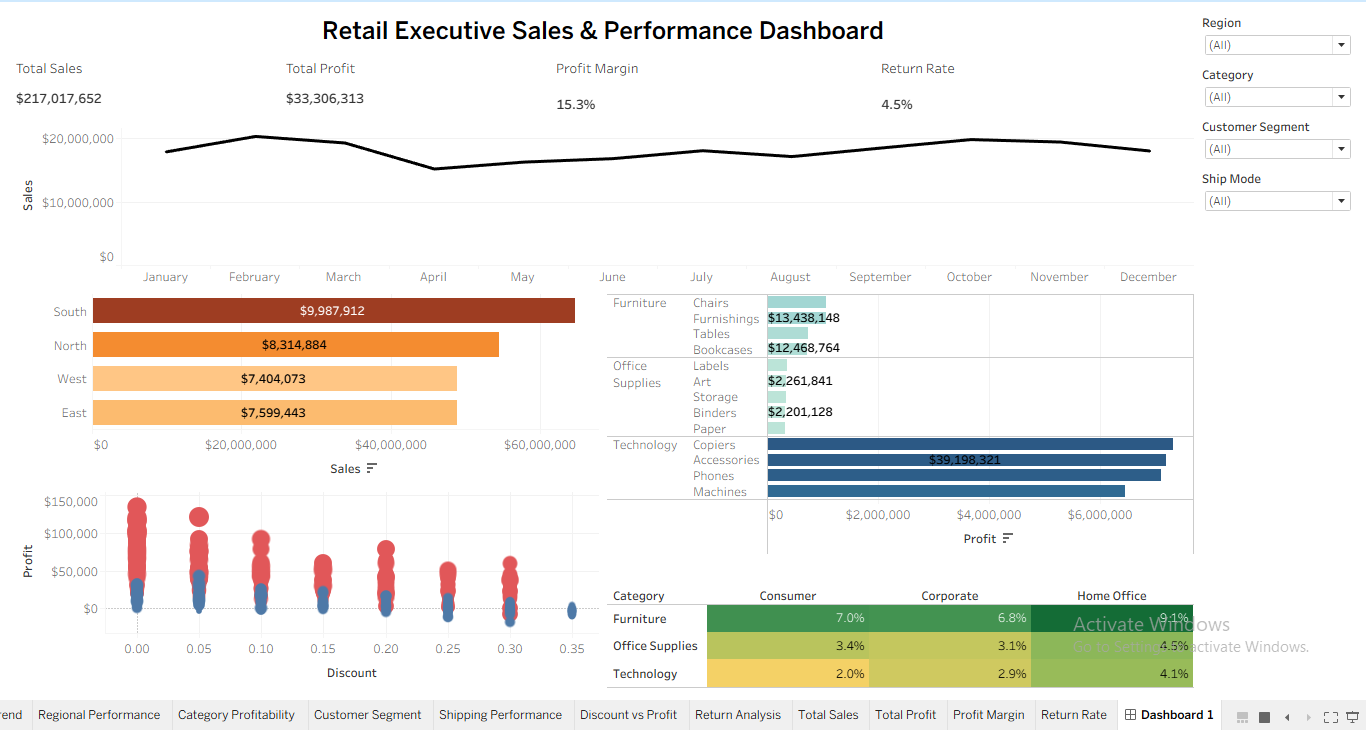

This screenshot's page, from the dashboard's own definition file:
{"tool":"tableau","page":{"name":"Dashboard 1","canvas":[1000,1000],"units":"permille","ordinal":0},"visuals":[{"type":"title","box":[6.9,14.5,848,58.8]},{"type":"filter","title":"Regional Performance","param":"[federated.1w3mb3z008lfzm1epvylw1bripmz].[none:region:nk]","box":[854.9,14.5,138.2,94.2]},{"type":"worksheet","title":"Total Sales","mark":"Automatic","box":[6.9,73.3,192.2,104.2]},{"type":"worksheet","title":"Total Profit","mark":"Automatic","box":[199.2,73.3,192.3,104.2]},{"type":"worksheet","title":"Profit Margin","mark":"Automatic","box":[391.5,73.3,231.7,104.2]},{"type":"worksheet","title":"Return Rate","mark":"Automatic","box":[623.1,73.3,231.8,104.2]},{"type":"filter","title":"Category Profitability","param":"[federated.1w3mb3z008lfzm1epvylw1bripmz].[none:category:nk]","box":[854.9,108.7,138.2,94.2]},{"type":"worksheet","title":"Sales Trend","mark":"Automatic","rows":["sales"],"cols":["order_date"],"box":[6.9,177.5,848,236]},{"type":"filter","title":"Return Analysis","param":"[federated.1w3mb3z008lfzm1epvylw1bripmz].[none:customer_segment:nk]","box":[854.9,202.9,138.2,94.2]},{"type":"filter","title":"Sales Trend","param":"[federated.1w3mb3z008lfzm1epvylw1bripmz].[none:ship_mode:nk]","box":[854.9,297.1,138.2,94.2]},{"type":"worksheet","title":"Regional Performance","mark":"Automatic","rows":["region"],"cols":["sales"],"box":[6.9,413.5,423.9,282.1]},{"type":"worksheet","title":"Category Profitability","mark":"Automatic","rows":["category","sub_category"],"cols":["profit"],"box":[430.9,413.5,424.1,383.5]},{"type":"worksheet","title":"Discount vs Profit","mark":"Circle","rows":["profit"],"cols":["discount"],"box":[6.9,695.6,423.9,289.9]},{"type":"worksheet","title":"Return Analysis","mark":"Square","rows":["category"],"cols":["customer_segment"],"box":[430.9,797,424.1,188.5]}]}

Visuals, with their boxes on the dashboard's canvas, which has no fixed pixel size, in thousandths of its width and height (x1, y1, x2, y2). These are canvas units, not pixel positions in the 1366x730 screenshot, which may show the page scaled, cropped or inside an application window:
title: Rect(7, 14, 855, 73)
"Regional Performance" filter: Rect(855, 14, 993, 109)
"Total Sales" worksheet: Rect(7, 73, 199, 178)
"Total Profit" worksheet: Rect(199, 73, 392, 178)
"Profit Margin" worksheet: Rect(392, 73, 623, 178)
"Return Rate" worksheet: Rect(623, 73, 855, 178)
"Category Profitability" filter: Rect(855, 109, 993, 203)
"Sales Trend" worksheet: Rect(7, 178, 855, 414)
"Return Analysis" filter: Rect(855, 203, 993, 297)
"Sales Trend" filter: Rect(855, 297, 993, 391)
"Regional Performance" worksheet: Rect(7, 414, 431, 696)
"Category Profitability" worksheet: Rect(431, 414, 855, 797)
"Discount vs Profit" worksheet (Circle marks): Rect(7, 696, 431, 986)
"Return Analysis" worksheet (Square marks): Rect(431, 797, 855, 986)
